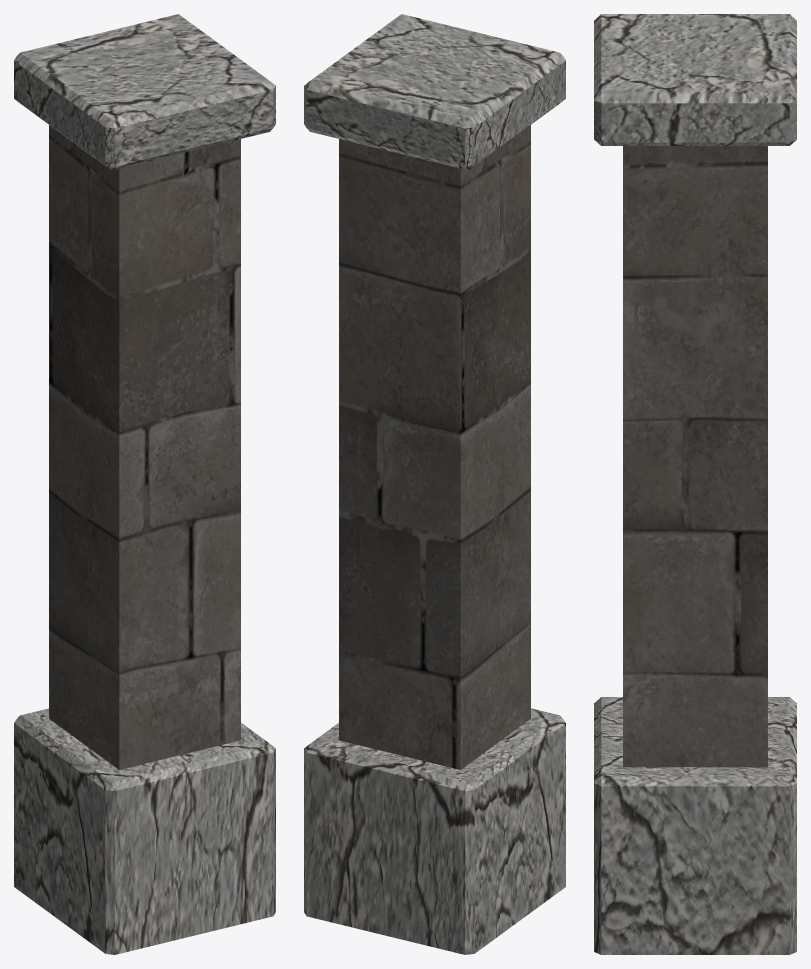
File: GYPillar.fbx
The picture shows the model from 3 angles, left to right: view 1: azimuth 30°, elevation 25°; view 2: azimuth 150°, elevation 25°; view 3: azimuth 270°, elevation 25°; orthographic projection. The views are drawn at different scales.
Visible parts, largest first — view 1: GraveyardPillar; view 2: GraveyardPillar; view 3: GraveyardPillar.
Part boxes in pixels (<box>): GraveyardPillar: <box>14,14,275,954</box>; GraveyardPillar: <box>304,14,565,954</box>; GraveyardPillar: <box>594,14,796,954</box>.
Size of the model in its own units: 3.5 by 16.34 by 3.5.
